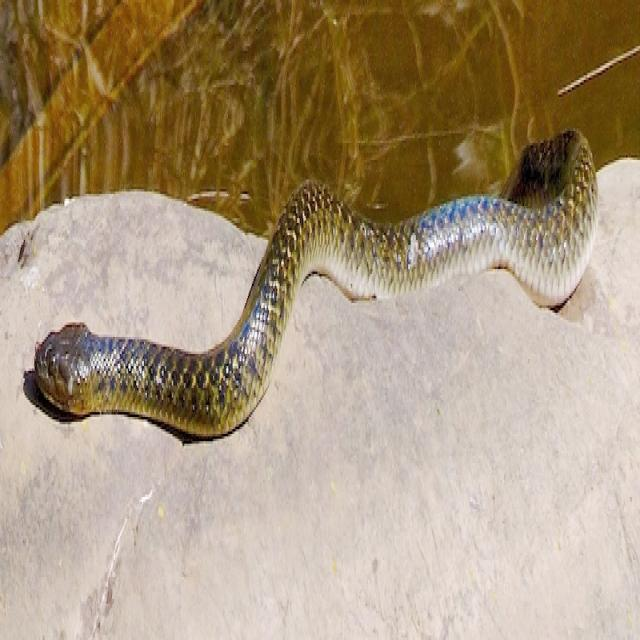Snake: (24, 124, 598, 444)
